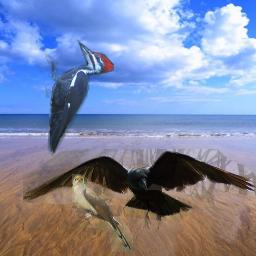Crow: (23, 149, 256, 230)
Cuckoo: (72, 174, 133, 252)
Woodpecker: (45, 37, 114, 158)
